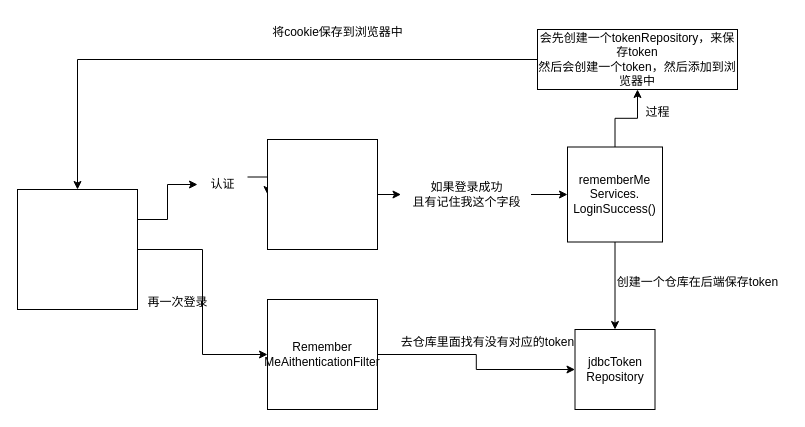
The diagram is 805 pixels wide and 427 high, and some of its shapes have lost their labels. Here are the shapes that lost their labels. From the top down, the box of each, then its label:
(266, 138, 378, 250): username Password AuthenticationFilter
(16, 188, 138, 310): 浏览器
